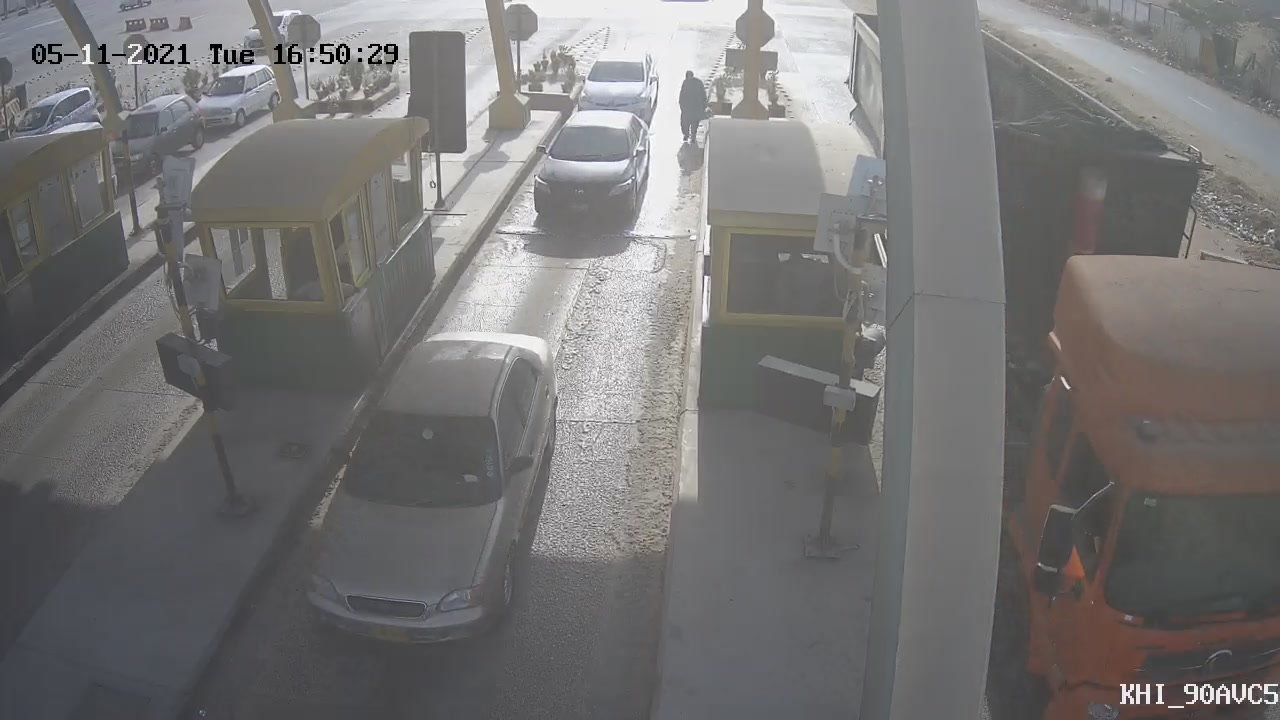F1: (505, 91, 666, 262), (561, 38, 669, 135)
